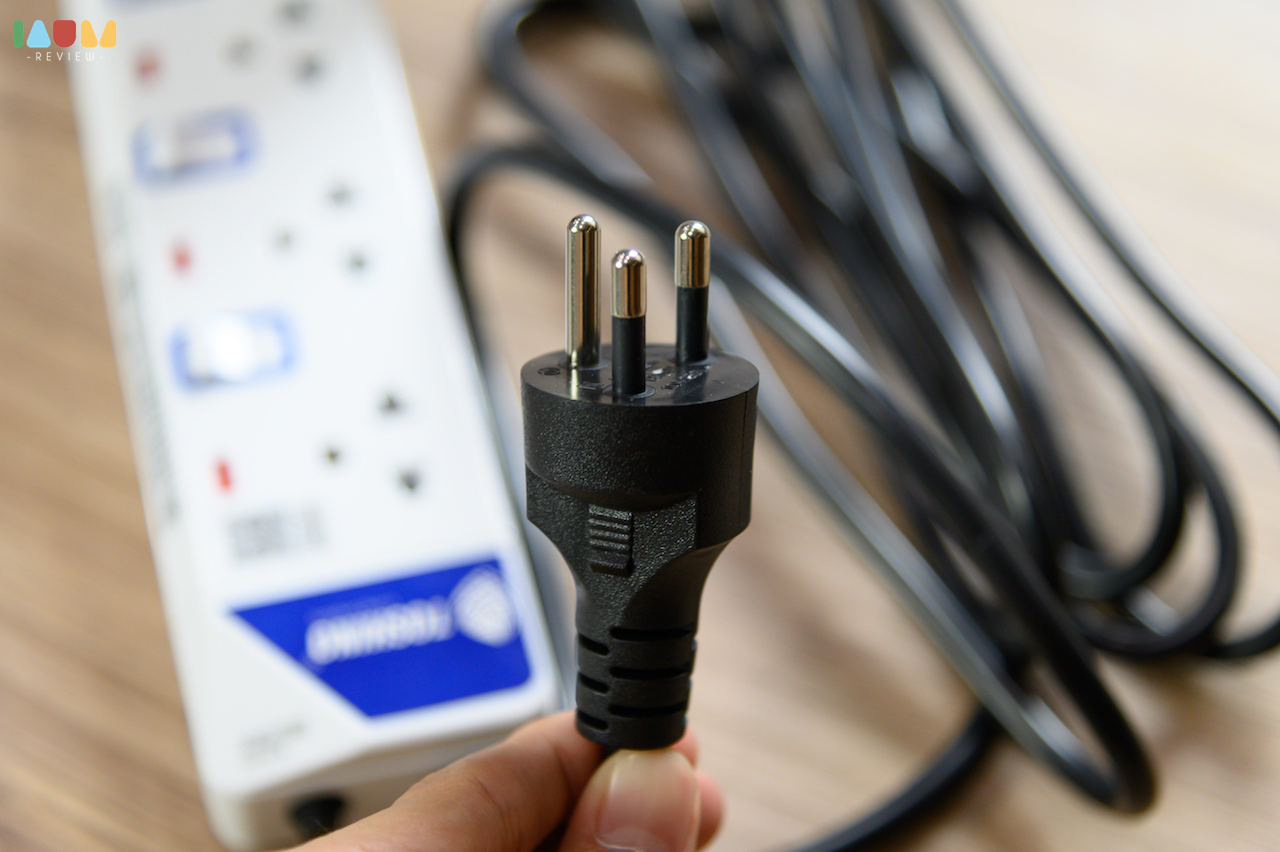Three_eye_plug: (34, 1, 579, 848)
